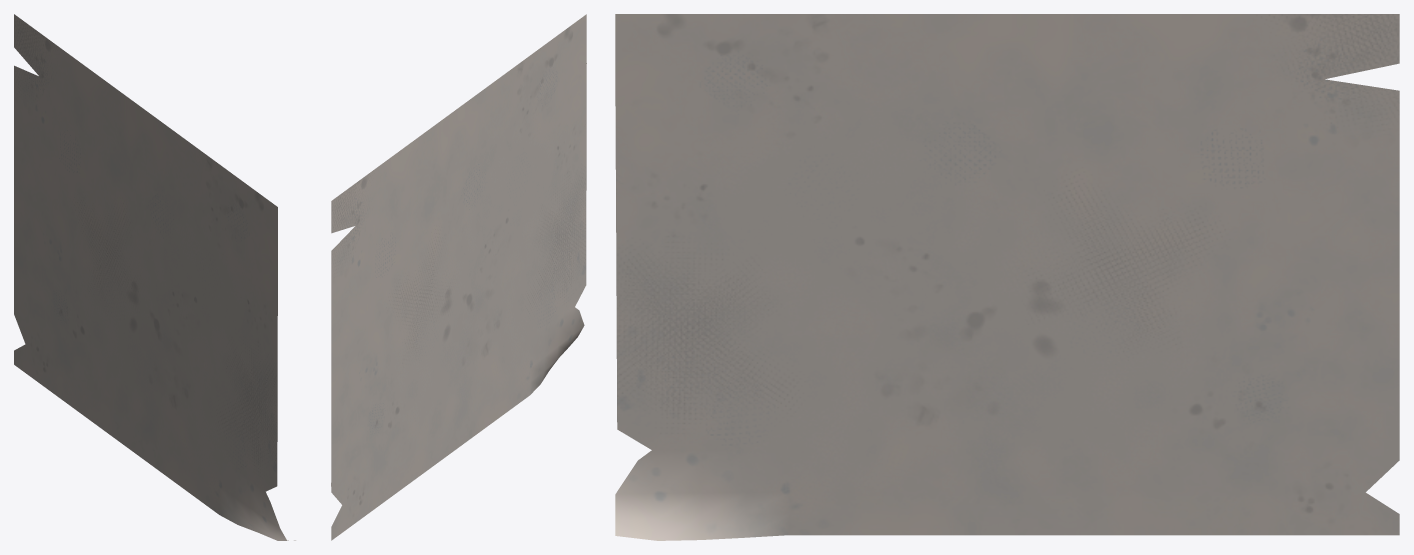
The model's file is obj_map.fbx.
3 renders of one model, left to right at view 1: azimuth 30°, elevation 25°; view 2: azimuth 150°, elevation 25°; view 3: azimuth 270°, elevation 25°, orthographic. The views are drawn at different scales.
Parts seen in each view (by area): view 1: obj_map; view 2: obj_map; view 3: obj_map.
Part boxes in pixels (box(x1,y1,x2,y2)): obj_map: box(14, 14, 295, 540); obj_map: box(331, 14, 586, 540); obj_map: box(615, 14, 1399, 540).
Bounding box in the file's own units: 0.0956 × 1.29 × 1.75.
Materials: 1 (1 with a texture image).
